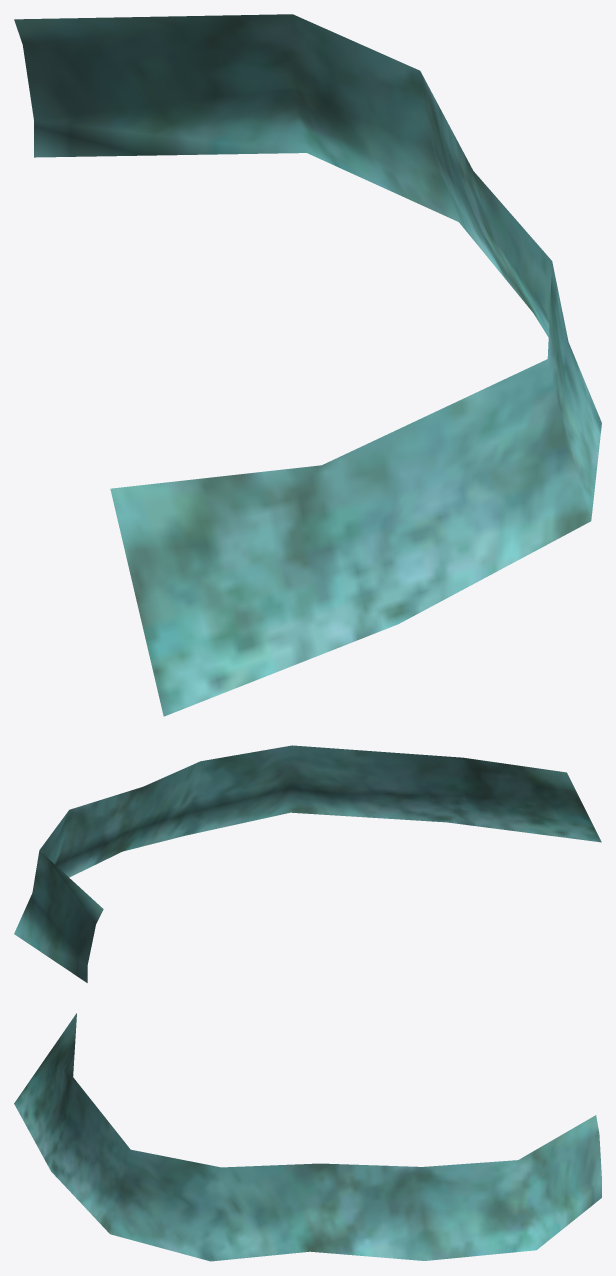
Rendered from EKH_GROTTO_PS_GR_OBJECT52.fbx.
The picture shows the model from 3 angles, top to bottom: view 1: azimuth 30°, elevation 25°; view 2: azimuth 150°, elevation 25°; view 3: azimuth 270°, elevation 25°; orthographic projection. The views are drawn at different scales.
Parts seen in each view (by area): view 1: EKH_GROTTO_PS_GR_OBJECT52; view 2: EKH_GROTTO_PS_GR_OBJECT52; view 3: EKH_GROTTO_PS_GR_OBJECT52.
Boxes of the visible parts, box(x1,y1,x2,y2) form: EKH_GROTTO_PS_GR_OBJECT52: box(14, 14, 601, 716); EKH_GROTTO_PS_GR_OBJECT52: box(14, 745, 601, 982); EKH_GROTTO_PS_GR_OBJECT52: box(14, 1013, 601, 1261).
Size of the model in its own units: 49131 by 13227 by 70076.
Materials: 1 (1 with a texture image).
